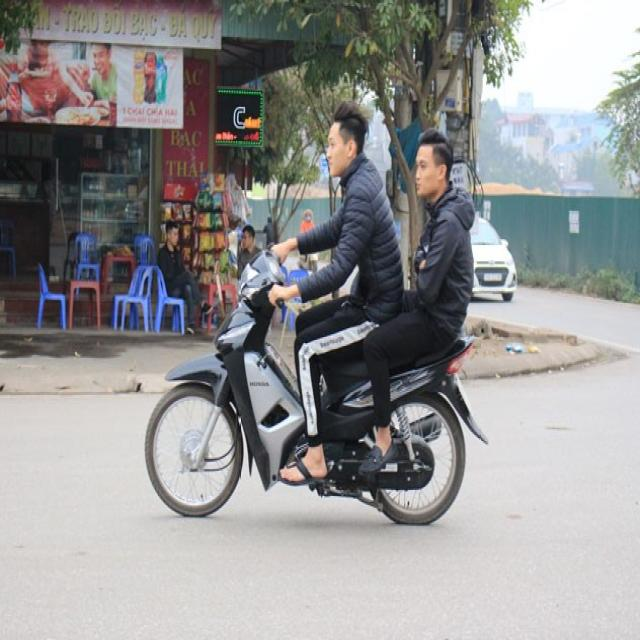no_helmet: (317, 92, 377, 190), (408, 120, 462, 210)
